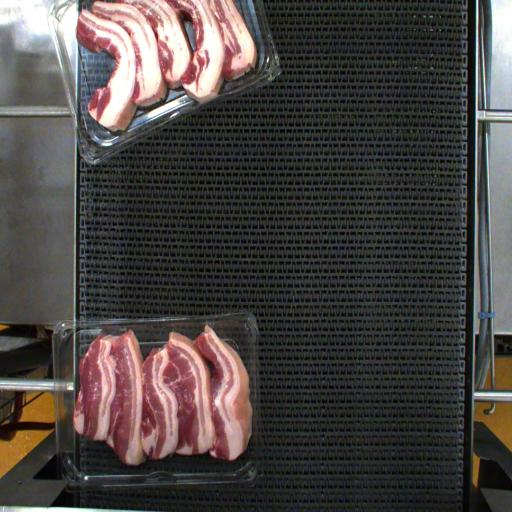packaging-error: (203, 312, 222, 337)
